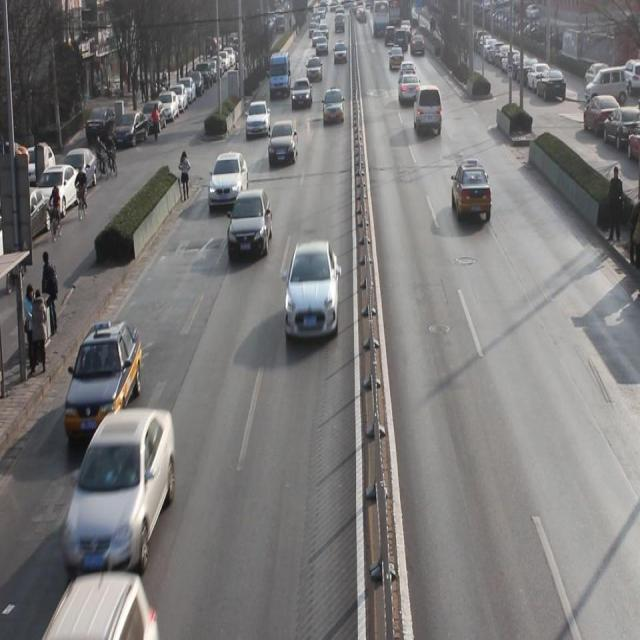car: (63, 418, 176, 575), (64, 324, 141, 438), (285, 243, 340, 342), (229, 192, 273, 262), (451, 162, 492, 227), (206, 151, 250, 209), (268, 126, 299, 168), (246, 98, 271, 140), (322, 92, 344, 130), (292, 79, 314, 112), (399, 74, 420, 105), (306, 56, 323, 87)
truck: (413, 86, 444, 142), (268, 51, 292, 102)
